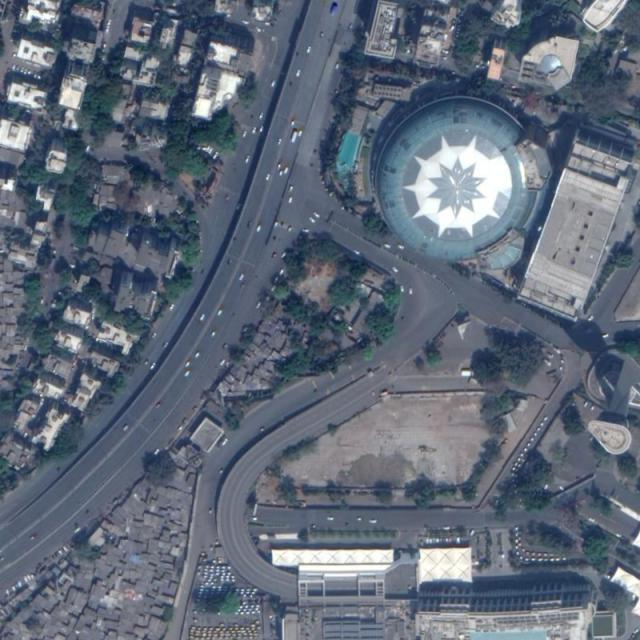vehicle: (330, 3, 337, 17), (258, 111, 266, 121), (122, 422, 130, 432), (291, 130, 297, 143), (198, 313, 206, 322), (238, 273, 246, 282), (62, 545, 70, 554), (168, 302, 175, 312), (236, 202, 243, 212), (245, 154, 251, 165), (309, 217, 317, 225), (216, 309, 224, 317), (221, 438, 229, 446), (73, 526, 81, 534), (251, 126, 258, 135), (154, 447, 161, 456), (219, 358, 226, 367), (256, 223, 262, 233), (306, 46, 313, 54), (298, 130, 305, 138), (314, 212, 322, 219), (184, 369, 191, 377), (163, 341, 170, 349), (194, 350, 201, 358), (276, 138, 283, 146), (278, 170, 285, 177), (185, 361, 192, 368), (151, 331, 158, 338), (397, 243, 404, 250), (266, 174, 272, 182), (242, 130, 248, 138), (150, 362, 156, 370), (284, 166, 290, 174), (291, 119, 296, 128), (259, 126, 265, 133), (296, 70, 302, 77), (271, 79, 277, 86), (392, 266, 398, 273), (354, 249, 361, 255), (587, 315, 593, 322), (289, 197, 294, 205), (289, 186, 294, 194), (277, 162, 282, 170), (409, 286, 413, 296), (272, 252, 277, 260), (26, 573, 31, 581), (11, 586, 17, 592), (384, 244, 391, 249), (327, 516, 334, 521), (470, 529, 475, 536), (602, 333, 609, 338), (302, 228, 310, 232), (274, 221, 278, 229), (24, 575, 28, 583), (18, 579, 22, 587), (442, 526, 450, 530), (400, 285, 404, 292), (369, 519, 376, 523)
